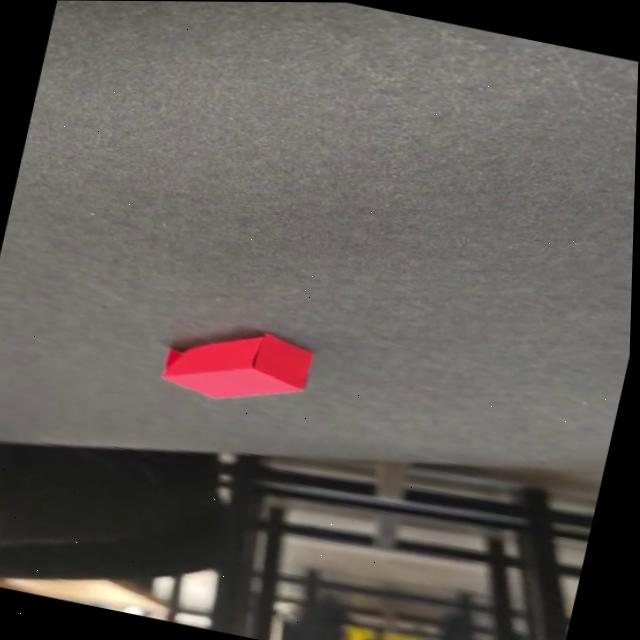red block: (157, 313, 320, 417)
